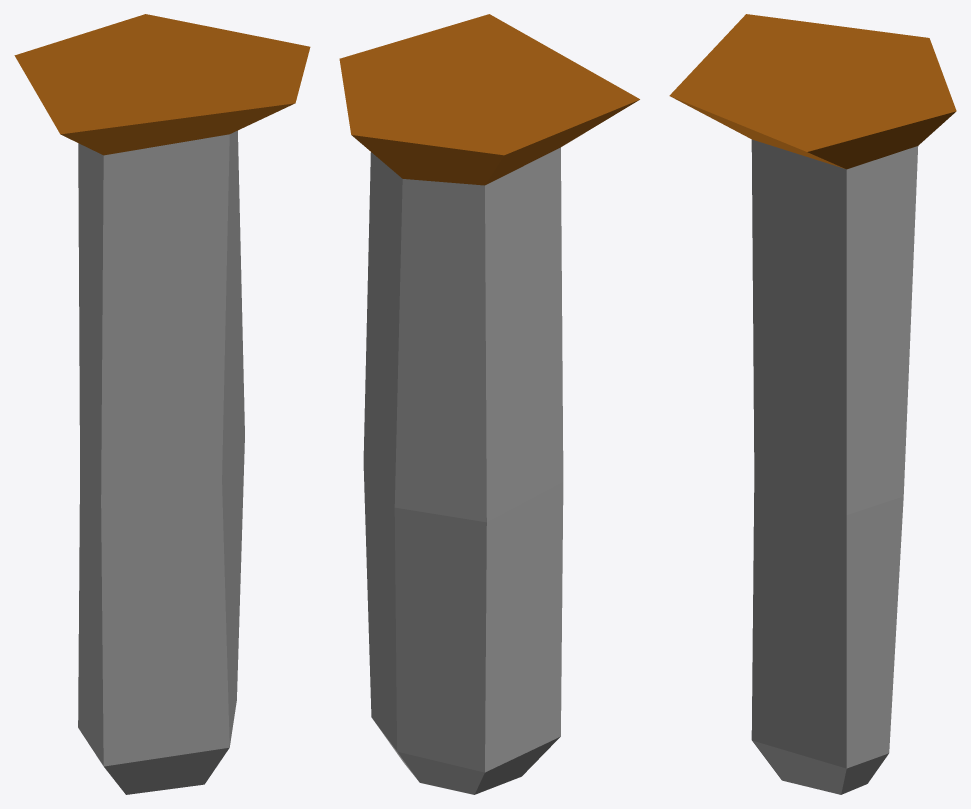
Rendered from tall_potion.obj.
The picture shows the model from 3 angles, left to right: view 1: azimuth 30°, elevation 25°; view 2: azimuth 150°, elevation 25°; view 3: azimuth 270°, elevation 25°; orthographic projection. The views are drawn at different scales.
Parts seen in each view (by area): view 1: Icosphere; view 2: Icosphere; view 3: Icosphere.
Boxes of the visible parts, x1,y1,x2,y2 form: Icosphere: (14, 14, 310, 794); Icosphere: (339, 14, 639, 794); Icosphere: (669, 14, 956, 794).
Size of the model in its own units: 0.0548 by 0.1333 by 0.0495.
